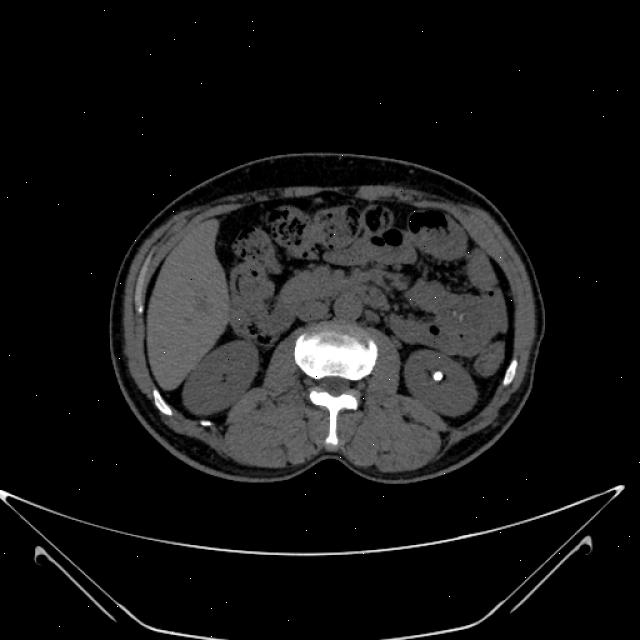kidneystone: (430, 371, 446, 382)
